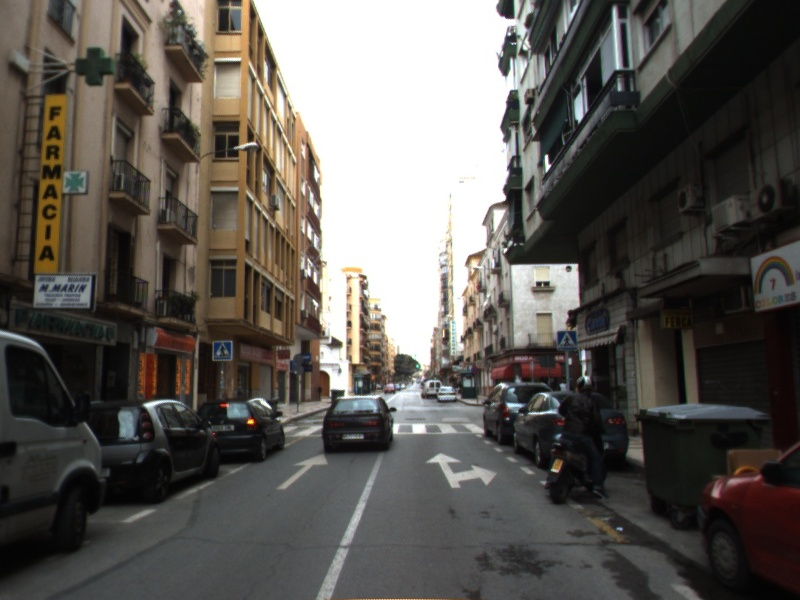STRAIGHT: (274, 452, 330, 491)
STRAIGHT_RIGHT: (424, 451, 499, 489)
